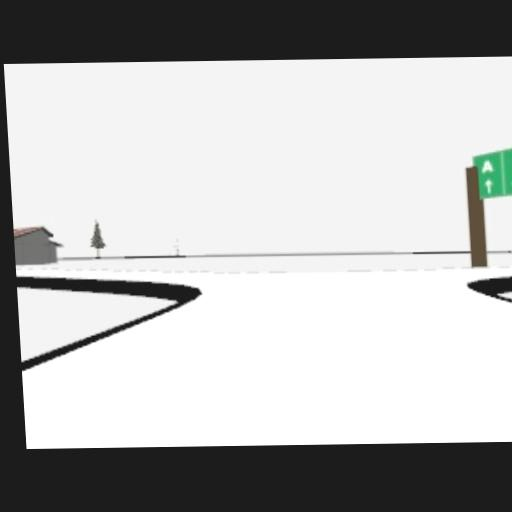A: (481, 158, 492, 172)
B: (511, 152, 512, 167)
Right: (511, 176, 512, 185)
Straight: (483, 177, 493, 192)
